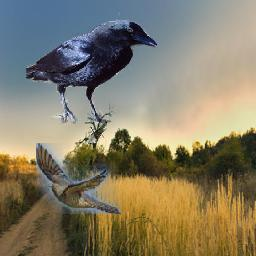Crow: (27, 20, 158, 125)
Cuckoo: (37, 144, 122, 215), (87, 120, 108, 144)
